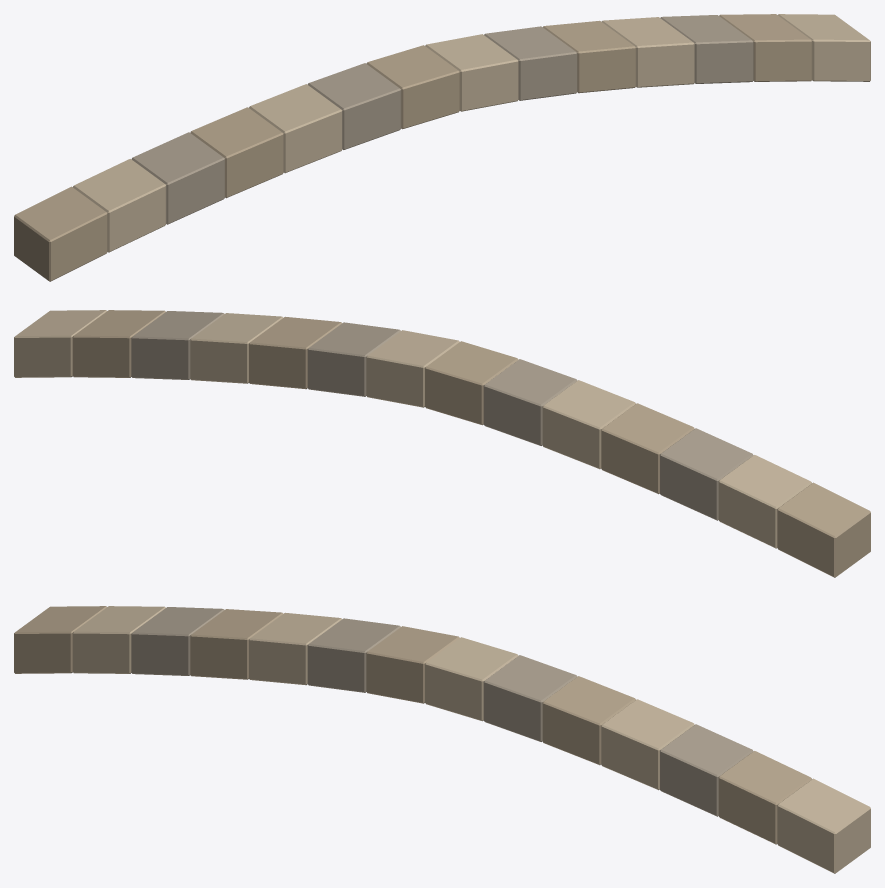
File: stone_arch.glb
3 renders of one model, top to bottom at view 1: azimuth 30°, elevation 25°; view 2: azimuth 150°, elevation 25°; view 3: azimuth 330°, elevation 25°, orthographic.
Parts seen in each view (by area): view 1: stone_arch; view 2: stone_arch; view 3: stone_arch.
Part boxes in pixels (x1=…): stone_arch: x1=14, y1=14, x2=870, y2=281; stone_arch: x1=14, y1=310, x2=870, y2=577; stone_arch: x1=14, y1=606, x2=870, y2=873.
Bounding box in the file's own units: 3.92 × 0.5082 × 0.3.
